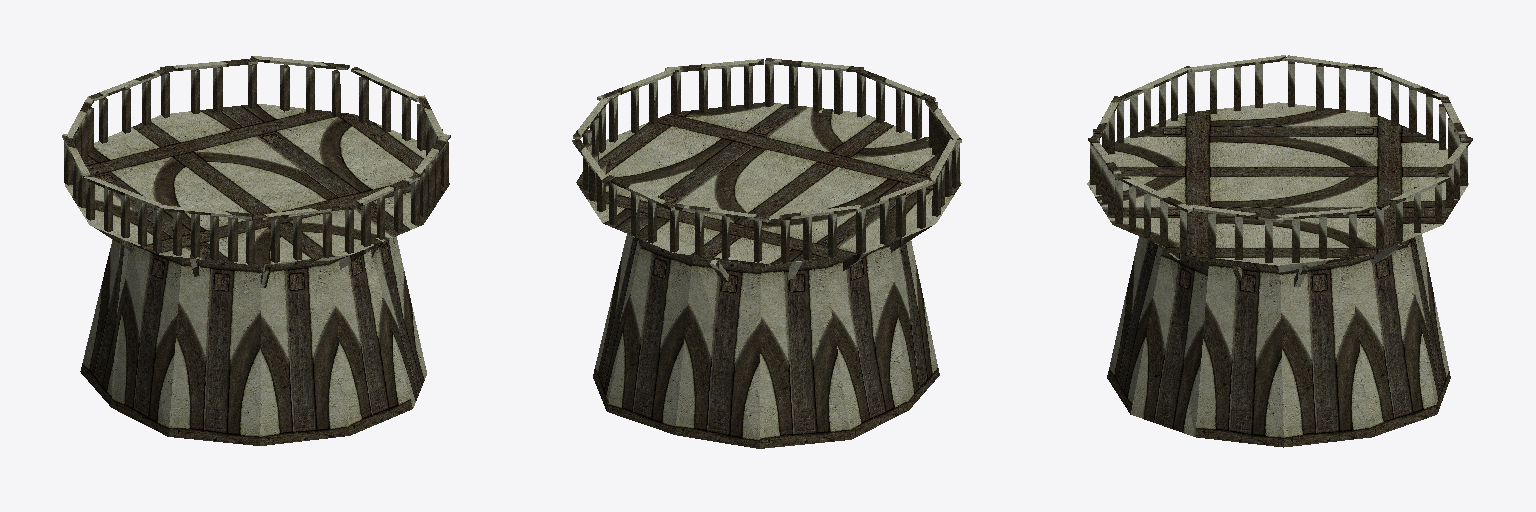
3 views of the same model, side by side, from view 1: azimuth 30°, elevation 25°; view 2: azimuth 150°, elevation 25°; view 3: azimuth 270°, elevation 25° (orthographic).
Parts seen in each view (by area): view 1: Object.1; view 2: Object.1; view 3: Object.1.
Boxes of the visible parts, x1,y1,x2,y2 form: Object.1: [62, 56, 450, 445]; Object.1: [572, 58, 961, 448]; Object.1: [1087, 55, 1472, 447].
Bounding box in the file's own units: 893 × 595 × 880.
3 materials, 1 textured.